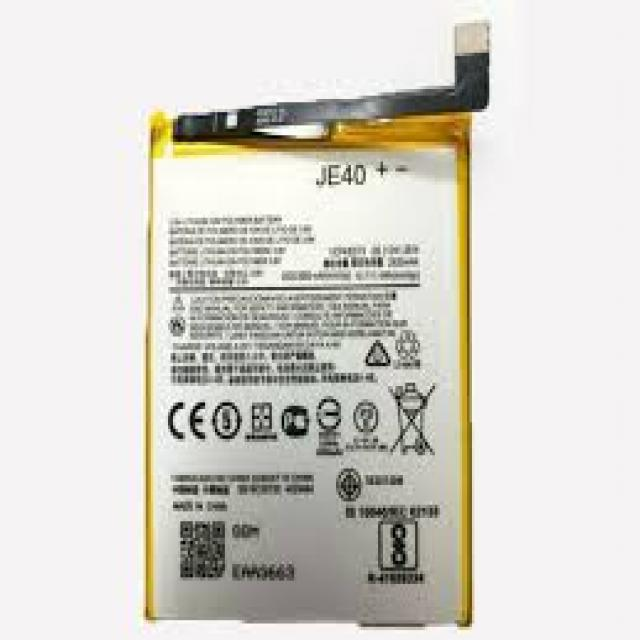non-organic waste: (142, 23, 488, 625)
